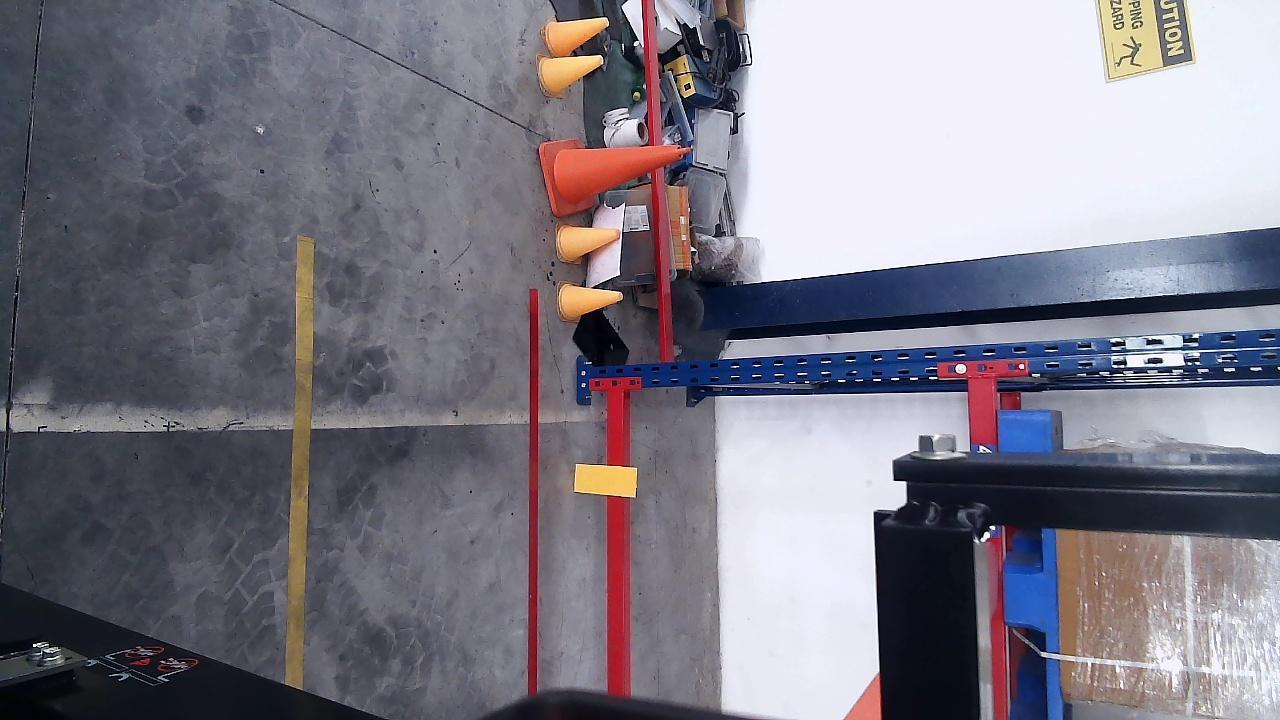red_line: (525, 291, 540, 697)
yellow_line: (1002, 413, 1062, 713), (285, 238, 314, 690)
